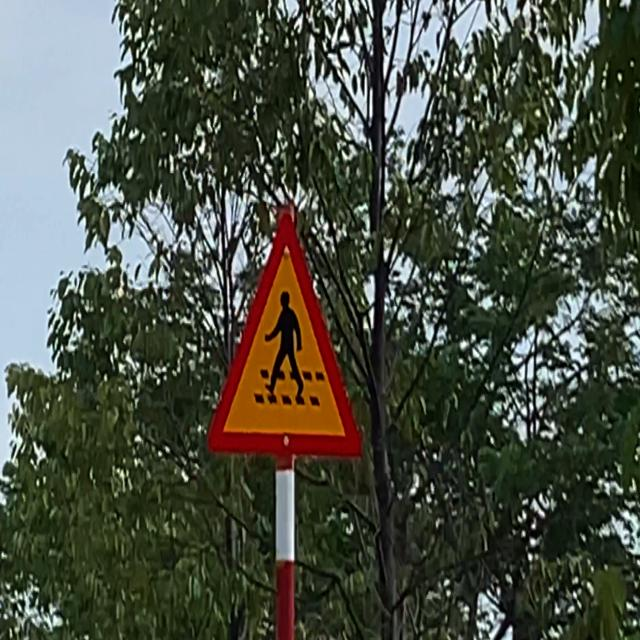Nguoi di bo cat ngang: (203, 210, 363, 461)
